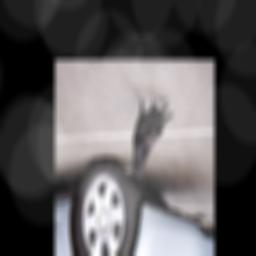Crow: (124, 85, 175, 180)
